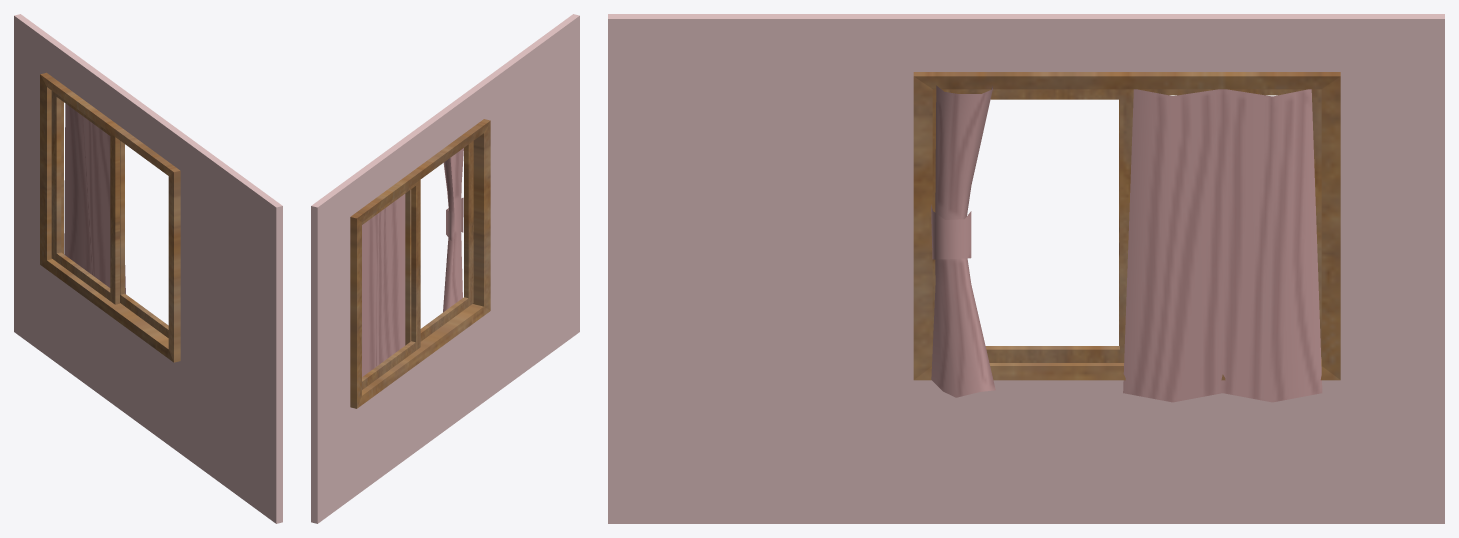
File: wall_window.fbx
3 renders of one model, left to right at view 1: azimuth 30°, elevation 25°; view 2: azimuth 150°, elevation 25°; view 3: azimuth 270°, elevation 25°, orthographic. The views are drawn at different scales.
Parts seen in each view (by area): view 1: wall_window; view 2: wall_window; view 3: wall_window.
Part boxes in pixels (x1,y1,x2,y2): wall_window: [14, 14, 282, 523]; wall_window: [311, 14, 579, 523]; wall_window: [608, 14, 1444, 523].
Size of the model in its own units: 134 by 1331 by 2000.
1 material, 1 textured.
